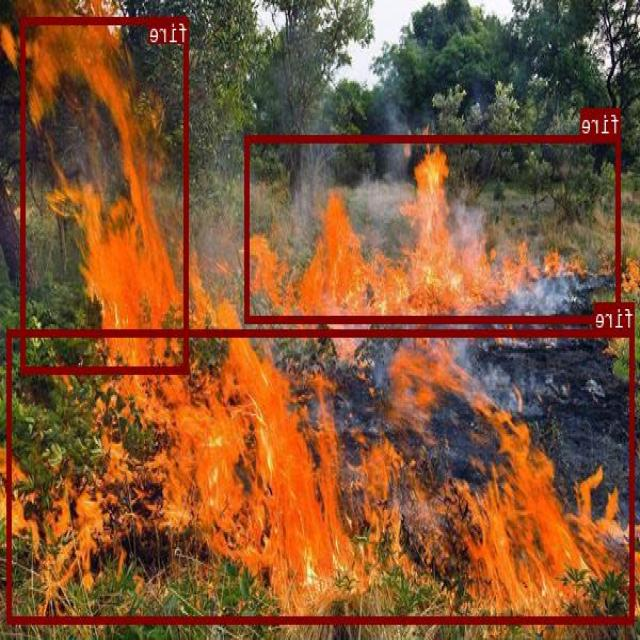fire: (8, 329, 635, 622), (246, 135, 621, 322), (22, 15, 190, 372)
